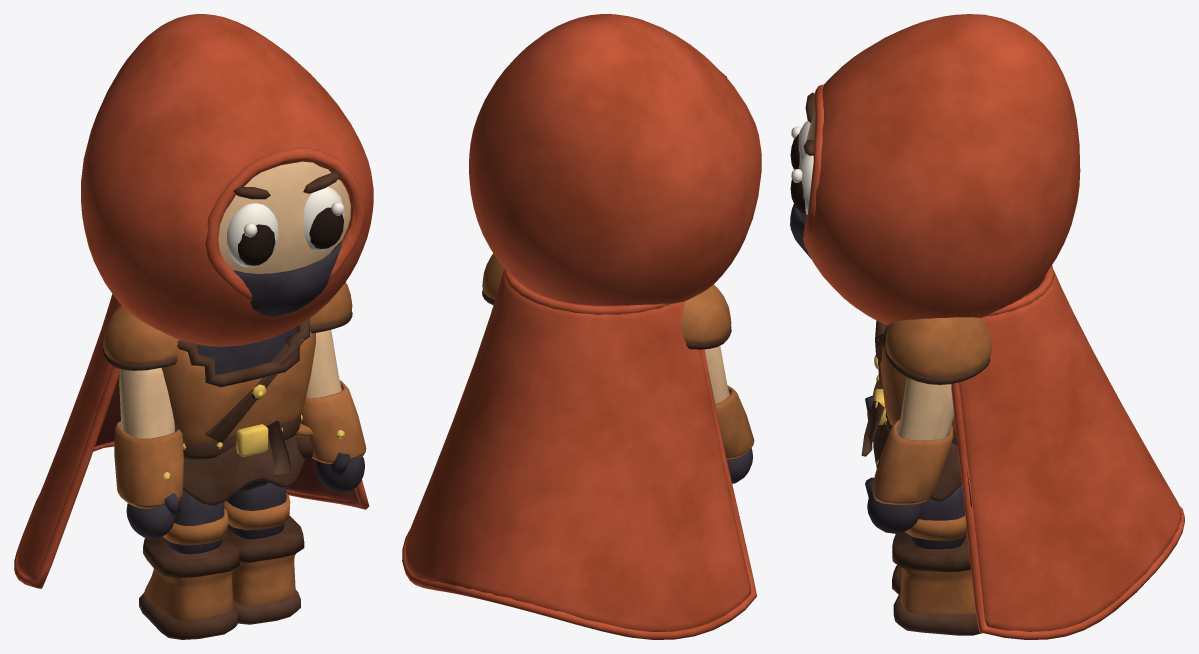
File: chr_hero_rogue.glb
3 views of the same model, side by side, from view 1: azimuth 30°, elevation 25°; view 2: azimuth 150°, elevation 25°; view 3: azimuth 270°, elevation 25° (orthographic).
Visible parts, largest first — view 1: chr_hero_rogue; view 2: chr_hero_rogue; view 3: chr_hero_rogue.
Boxes of the visible parts, <box> form: chr_hero_rogue: <box>14,14,373,639</box>; chr_hero_rogue: <box>402,14,761,639</box>; chr_hero_rogue: <box>790,14,1184,639</box>.
Size of the model in its own units: 1.34 by 2.23 by 1.37.
Materials: 1 (1 with a texture image).
